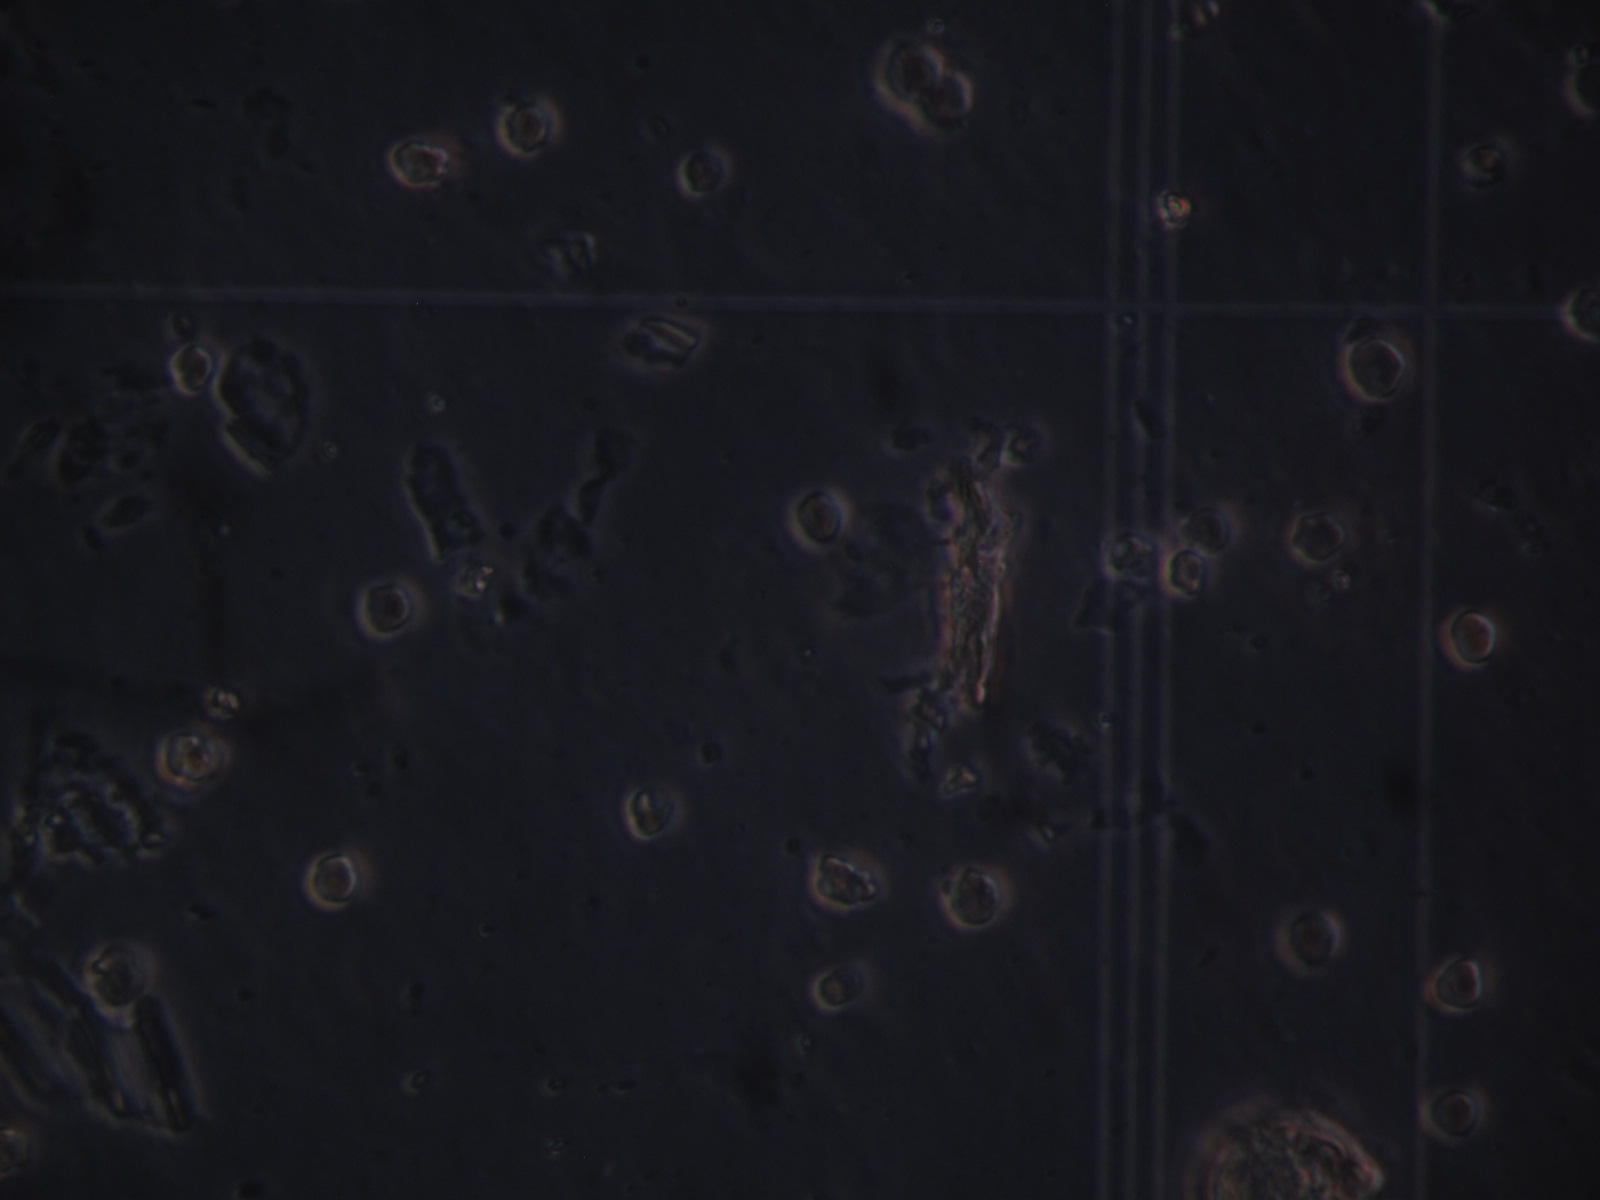hemo: (83, 934, 157, 1015), (1275, 908, 1349, 977), (941, 861, 1010, 933), (873, 37, 942, 108), (1338, 337, 1412, 402), (1284, 508, 1361, 570), (808, 850, 882, 913), (1419, 1080, 1487, 1147), (157, 727, 232, 788), (357, 575, 425, 640), (911, 71, 974, 141), (789, 484, 850, 553), (496, 93, 561, 158), (1440, 608, 1507, 669), (306, 851, 373, 911), (1430, 954, 1488, 1016), (624, 784, 684, 841), (1175, 504, 1237, 558), (388, 134, 451, 187), (677, 146, 734, 199), (810, 962, 869, 1011), (998, 418, 1052, 471), (1162, 547, 1214, 600), (169, 340, 215, 397), (1563, 58, 1600, 118), (1460, 140, 1509, 182), (1563, 289, 1600, 342), (1155, 189, 1194, 229)
